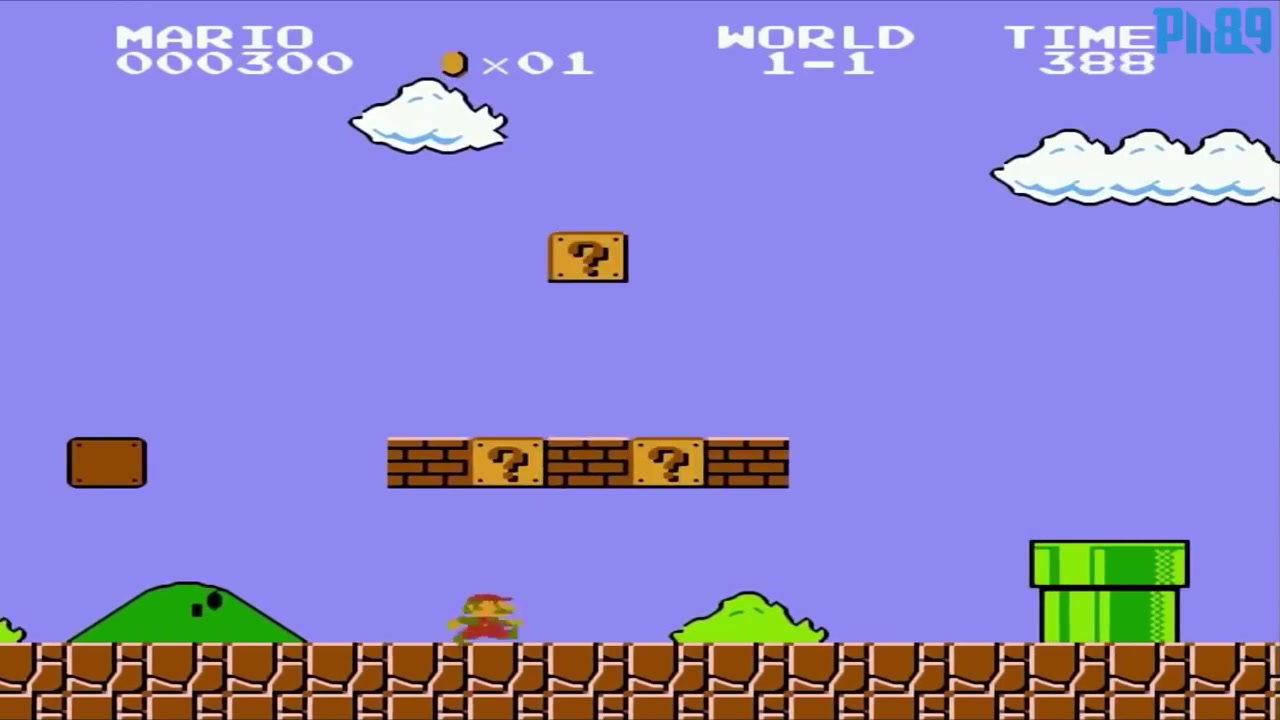mario: (436, 586, 527, 649)
